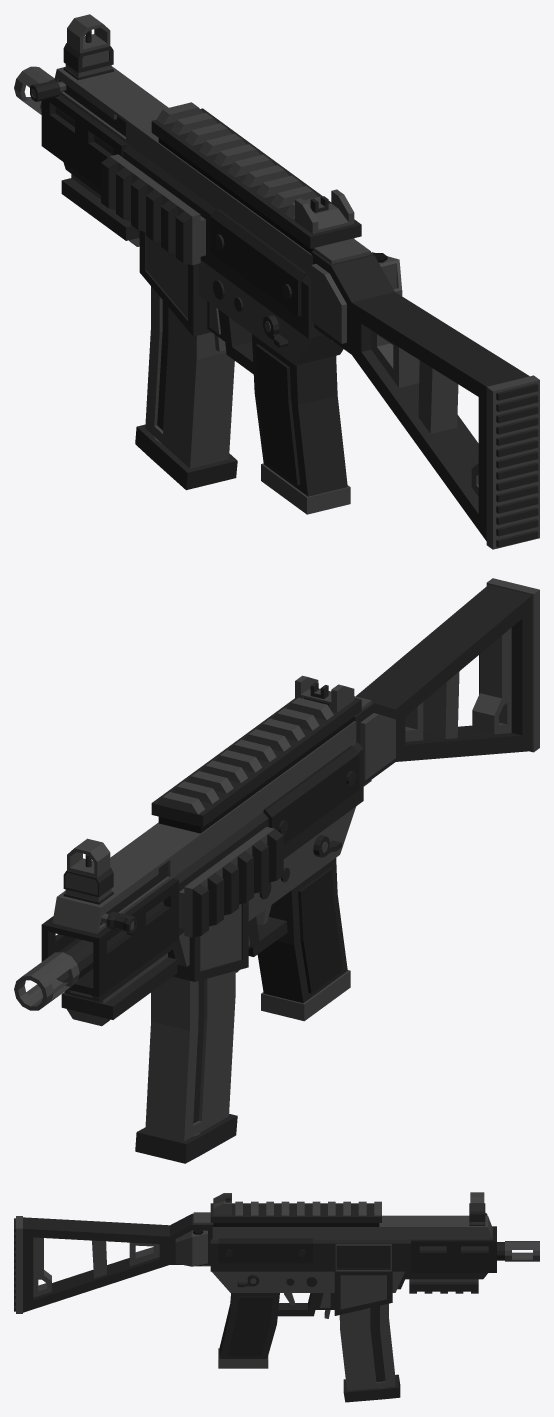
Rendered from submachine-gun.glb.
3 views of the same model, one above another, from view 1: azimuth 30°, elevation 25°; view 2: azimuth 150°, elevation 25°; view 3: azimuth 270°, elevation 25° (orthographic). The views are drawn at different scales.
Visible parts, largest first — view 1: H&K UMP45; view 2: H&K UMP45; view 3: H&K UMP45.
Part boxes in pixels (x1=…): H&K UMP45: x1=14, y1=14, x2=539, y2=549; H&K UMP45: x1=14, y1=578, x2=539, y2=1163; H&K UMP45: x1=14, y1=1192, x2=539, y2=1402.
Bounding box in the file's own units: 0.2101 × 0.7751 × 1.83.
1 material, 1 textured.
